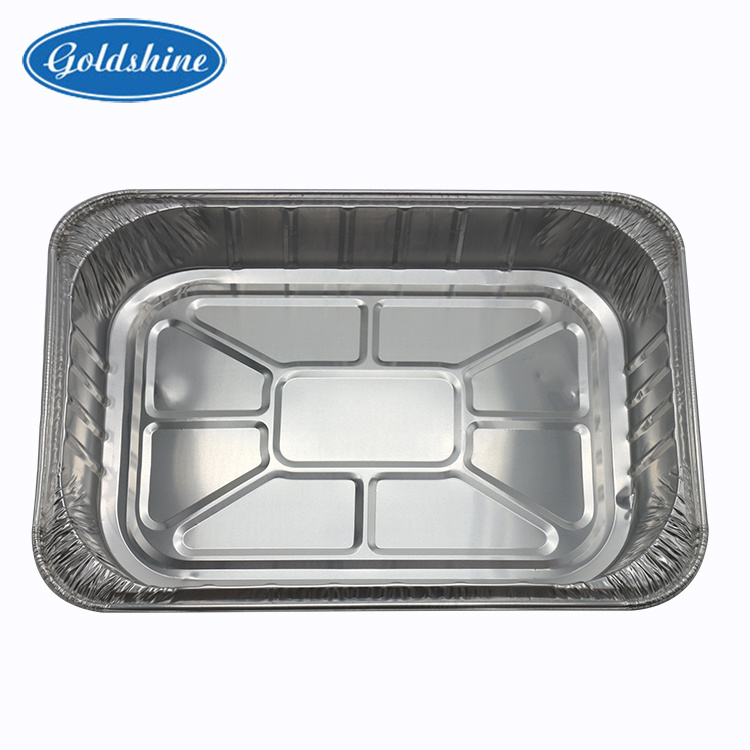metal: (35, 186, 705, 614)
